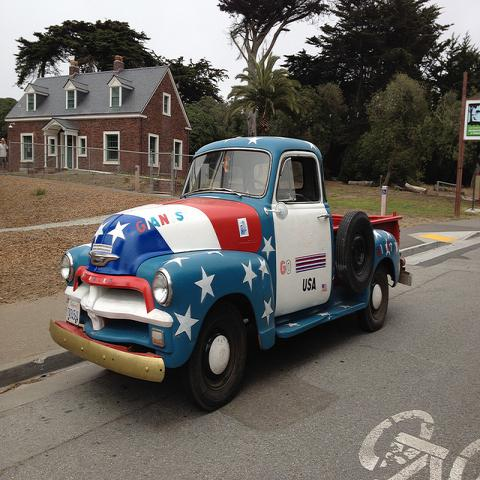truck: (48, 135, 413, 413)
